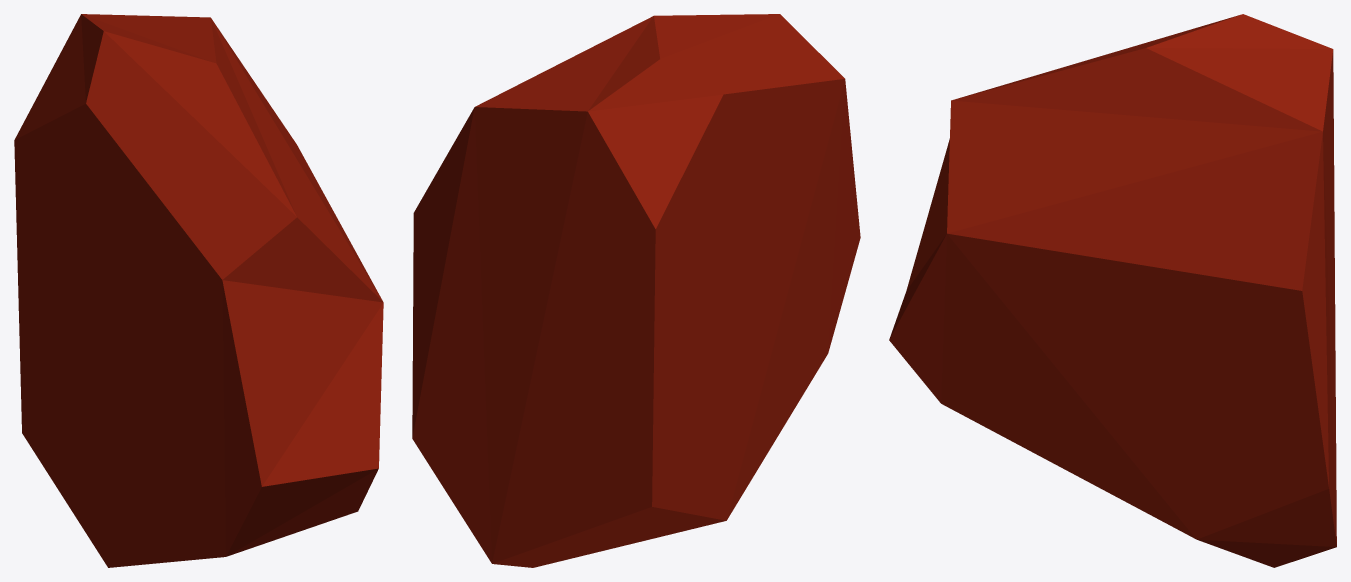
Rendered from SM_Simple_Rock_06.fbx.
3 renders of one model, left to right at view 1: azimuth 30°, elevation 25°; view 2: azimuth 150°, elevation 25°; view 3: azimuth 270°, elevation 25°, orthographic. The views are drawn at different scales.
Parts seen in each view (by area): view 1: SM_Simple_Rock_06; view 2: SM_Simple_Rock_06; view 3: SM_Simple_Rock_06.
Boxes of the visible parts, bbox=[...] form: SM_Simple_Rock_06: bbox=[14, 14, 383, 567]; SM_Simple_Rock_06: bbox=[412, 14, 860, 567]; SM_Simple_Rock_06: bbox=[889, 14, 1336, 567].
Bounding box in the file's own units: 9.06 × 17.72 × 14.32.
